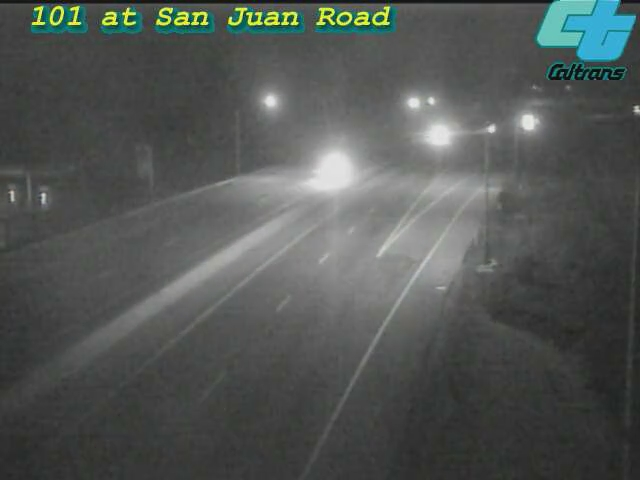vehicle: (290, 131, 370, 211), (412, 111, 462, 161), (462, 103, 512, 153), (498, 98, 548, 148), (611, 86, 640, 136)
